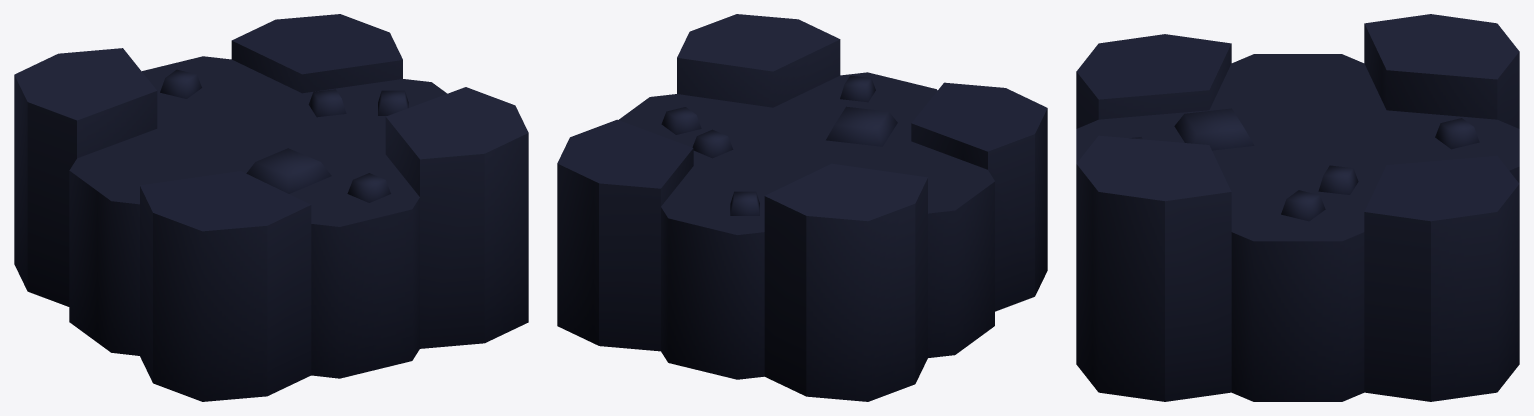
File: rocks.fbx
The picture shows the model from 3 angles, left to right: view 1: azimuth 30°, elevation 25°; view 2: azimuth 150°, elevation 25°; view 3: azimuth 270°, elevation 25°; orthographic projection. The views are drawn at different scales.
Visible parts, largest first — view 1: rocks; view 2: rocks; view 3: rocks.
Part boxes in pixels (x1,y1,x2,y2): rocks: [14, 14, 528, 401]; rocks: [557, 14, 1047, 401]; rocks: [1076, 14, 1519, 401].
Size of the model in its own units: 10 by 5 by 10.
